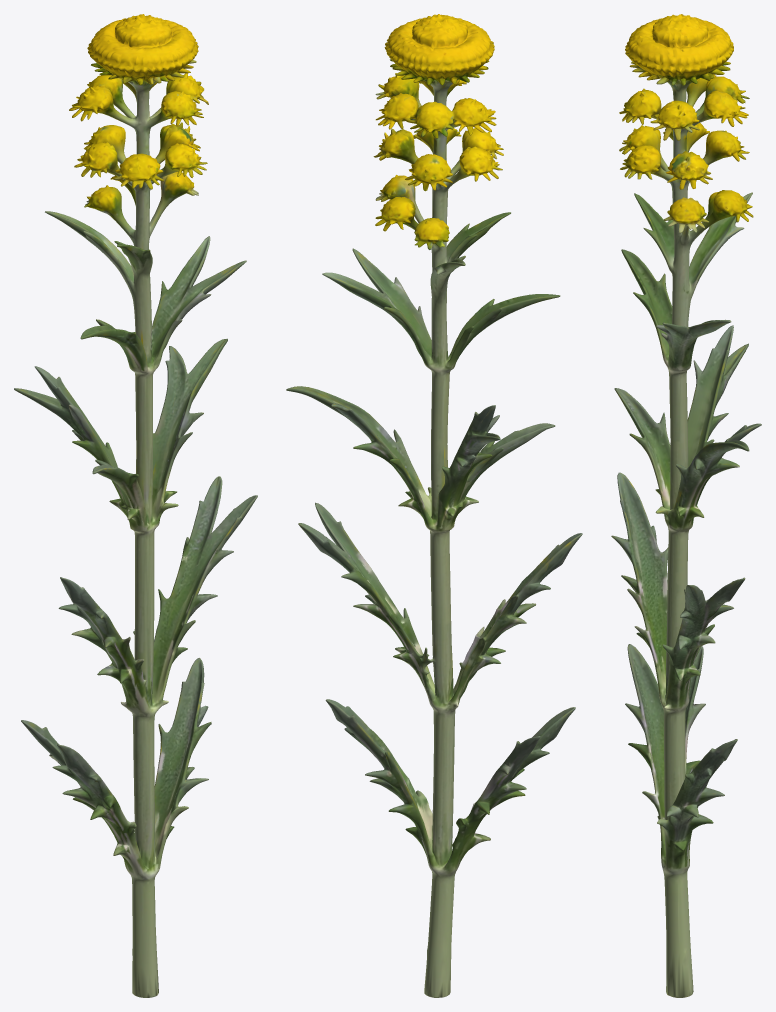
File: ainaixiang.glb
3 renders of one model, left to right at view 1: azimuth 30°, elevation 25°; view 2: azimuth 150°, elevation 25°; view 3: azimuth 270°, elevation 25°, orthographic.
Parts seen in each view (by area): view 1: node_0; view 2: node_0; view 3: node_0.
Boxes of the visible parts, left/top/right/bottom form: node_0: left=14, top=14, right=257, bottom=997; node_0: left=286, top=14, right=582, bottom=997; node_0: left=611, top=14, right=761, bottom=997.
Bounding box in the file's own units: 0.2981 × 1.2 × 0.1679.
Materials: 1 (1 with a texture image).
